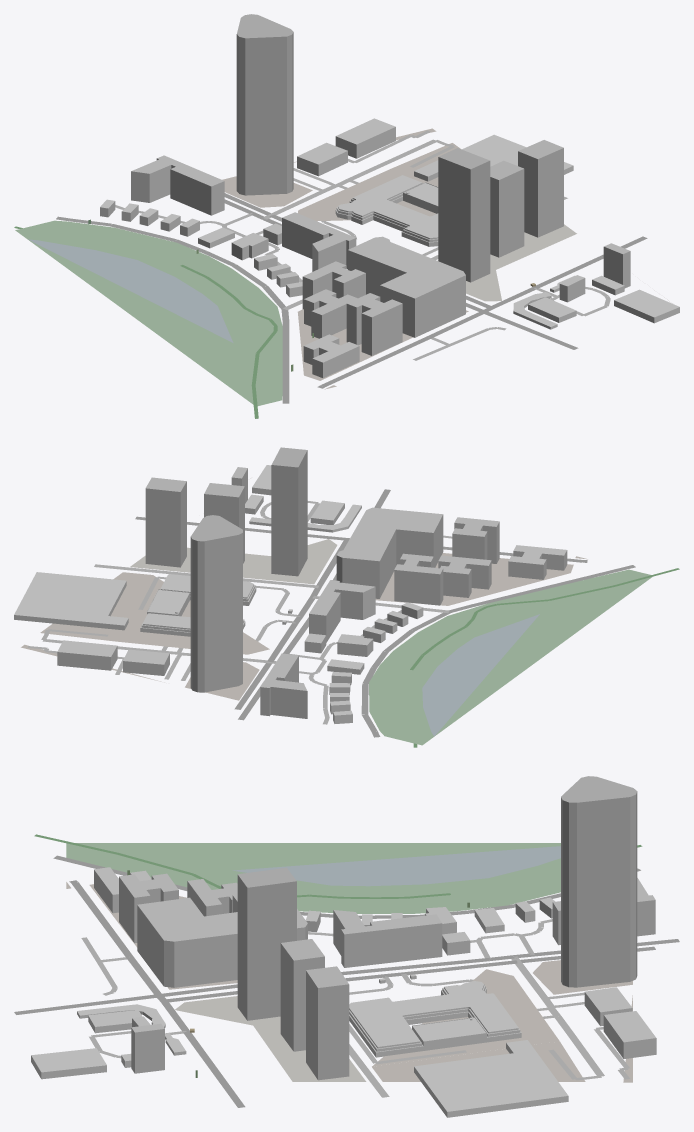
The picture shows the model from 3 angles, top to bottom: view 1: azimuth 30°, elevation 25°; view 2: azimuth 150°, elevation 25°; view 3: azimuth 270°, elevation 25°; orthographic projection. The views are drawn at different scales.
Bounding box in the file's own units: 591 × 180 × 588.
